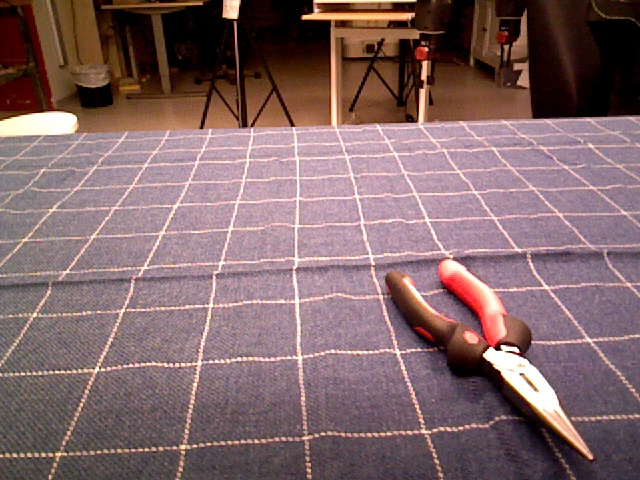plier1: (382, 260, 594, 465)
